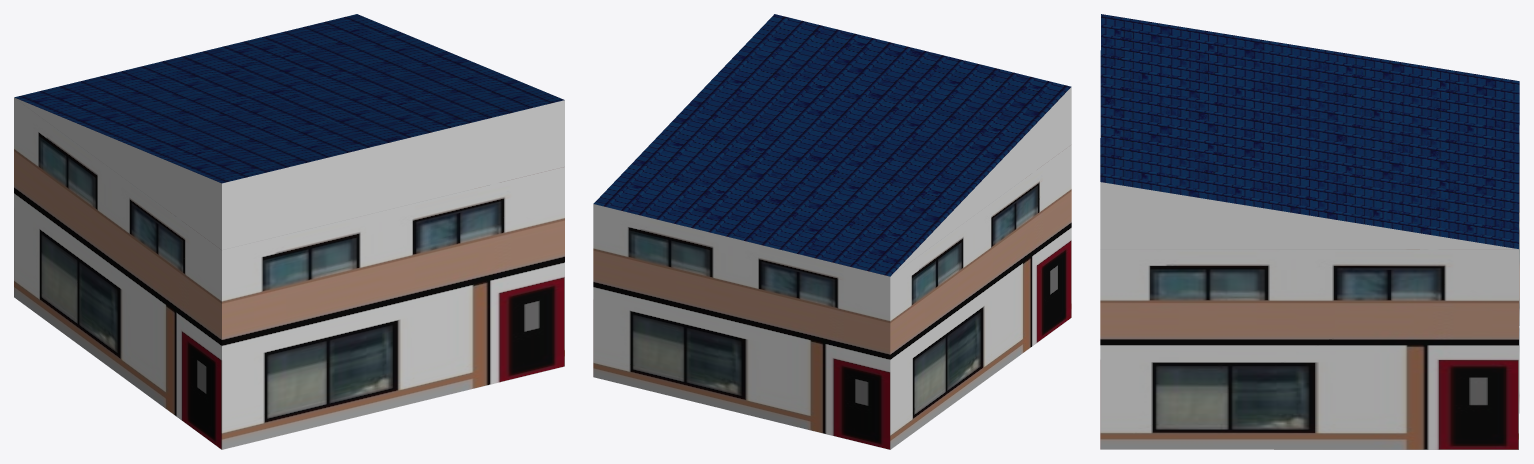
3 views of the same model, side by side, from view 1: azimuth 30°, elevation 25°; view 2: azimuth 150°, elevation 25°; view 3: azimuth 270°, elevation 25° (orthographic). The views are drawn at different scales.
Parts seen in each view (by area): view 1: CityEngineMaterial_5_m, CityEngineMaterial_6_m, CityEngineMaterial_3_m; view 2: CityEngineMaterial_5_m, CityEngineMaterial_6_m, CityEngineMaterial_3_m; view 3: CityEngineMaterial_5_m, CityEngineMaterial_6_m, CityEngineMaterial_3_m.
Part boxes in pixels (box(x1,y1,x2,y2)): CityEngineMaterial_5_m: box(14, 97, 564, 449); CityEngineMaterial_6_m: box(14, 14, 564, 183); CityEngineMaterial_3_m: box(14, 97, 564, 249); CityEngineMaterial_5_m: box(593, 144, 1071, 449); CityEngineMaterial_6_m: box(593, 14, 1071, 276); CityEngineMaterial_3_m: box(891, 87, 1071, 275); CityEngineMaterial_5_m: box(1100, 125, 1519, 449); CityEngineMaterial_6_m: box(1100, 14, 1519, 248); CityEngineMaterial_3_m: box(1100, 182, 1518, 249).
Size of the model in its own units: 16.92 by 12.55 by 17.81.
